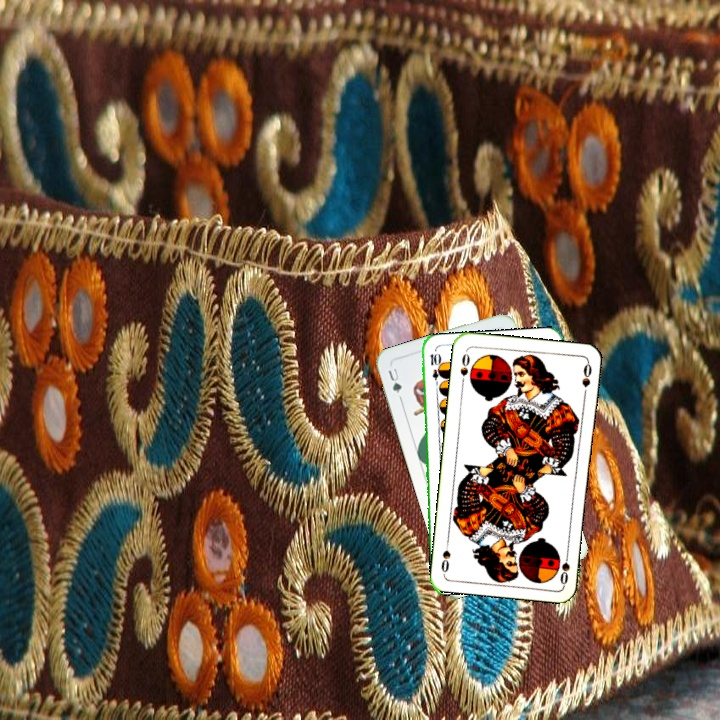E10: (426, 349, 442, 390)
GU: (384, 364, 404, 402)
SO: (556, 546, 572, 587), (456, 349, 472, 387)
